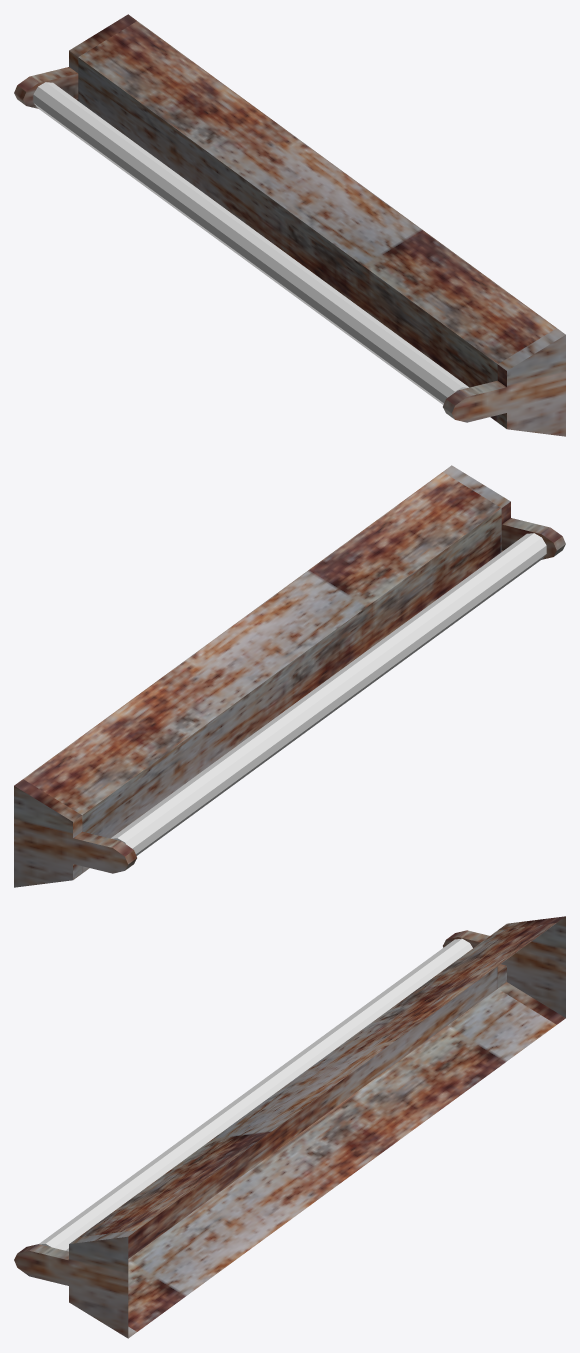
Rendered from Tubo de luz.fbx.
3 views of the same model, one above another, from view 1: azimuth 30°, elevation 25°; view 2: azimuth 150°, elevation 25°; view 3: azimuth 330°, elevation 25° (orthographic).
Visible parts, largest first — view 1: tube_light; view 2: tube_light; view 3: tube_light.
Boxes of the visible parts, bbox=[...] form: tube_light: bbox=[14, 14, 565, 436]; tube_light: bbox=[14, 465, 565, 887]; tube_light: bbox=[14, 916, 565, 1338].
Bounding box in the file's own units: 0.4475 × 0.3818 × 2.97.
